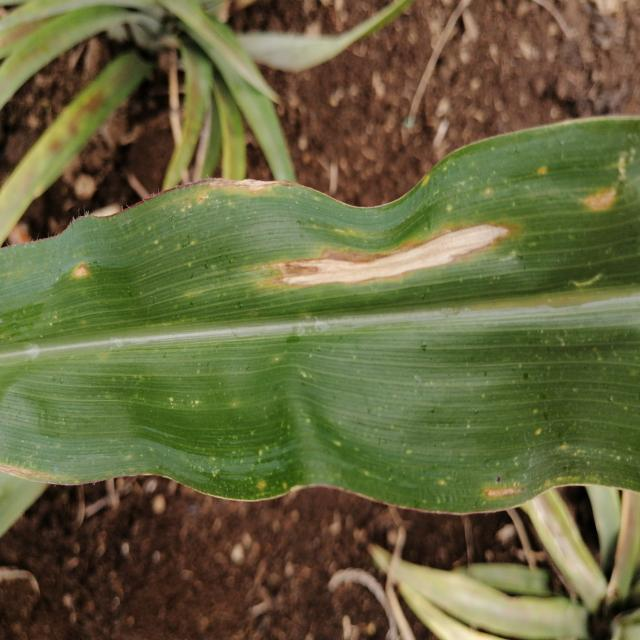Corn_Leaf_Blight: (0, 121, 640, 514)
